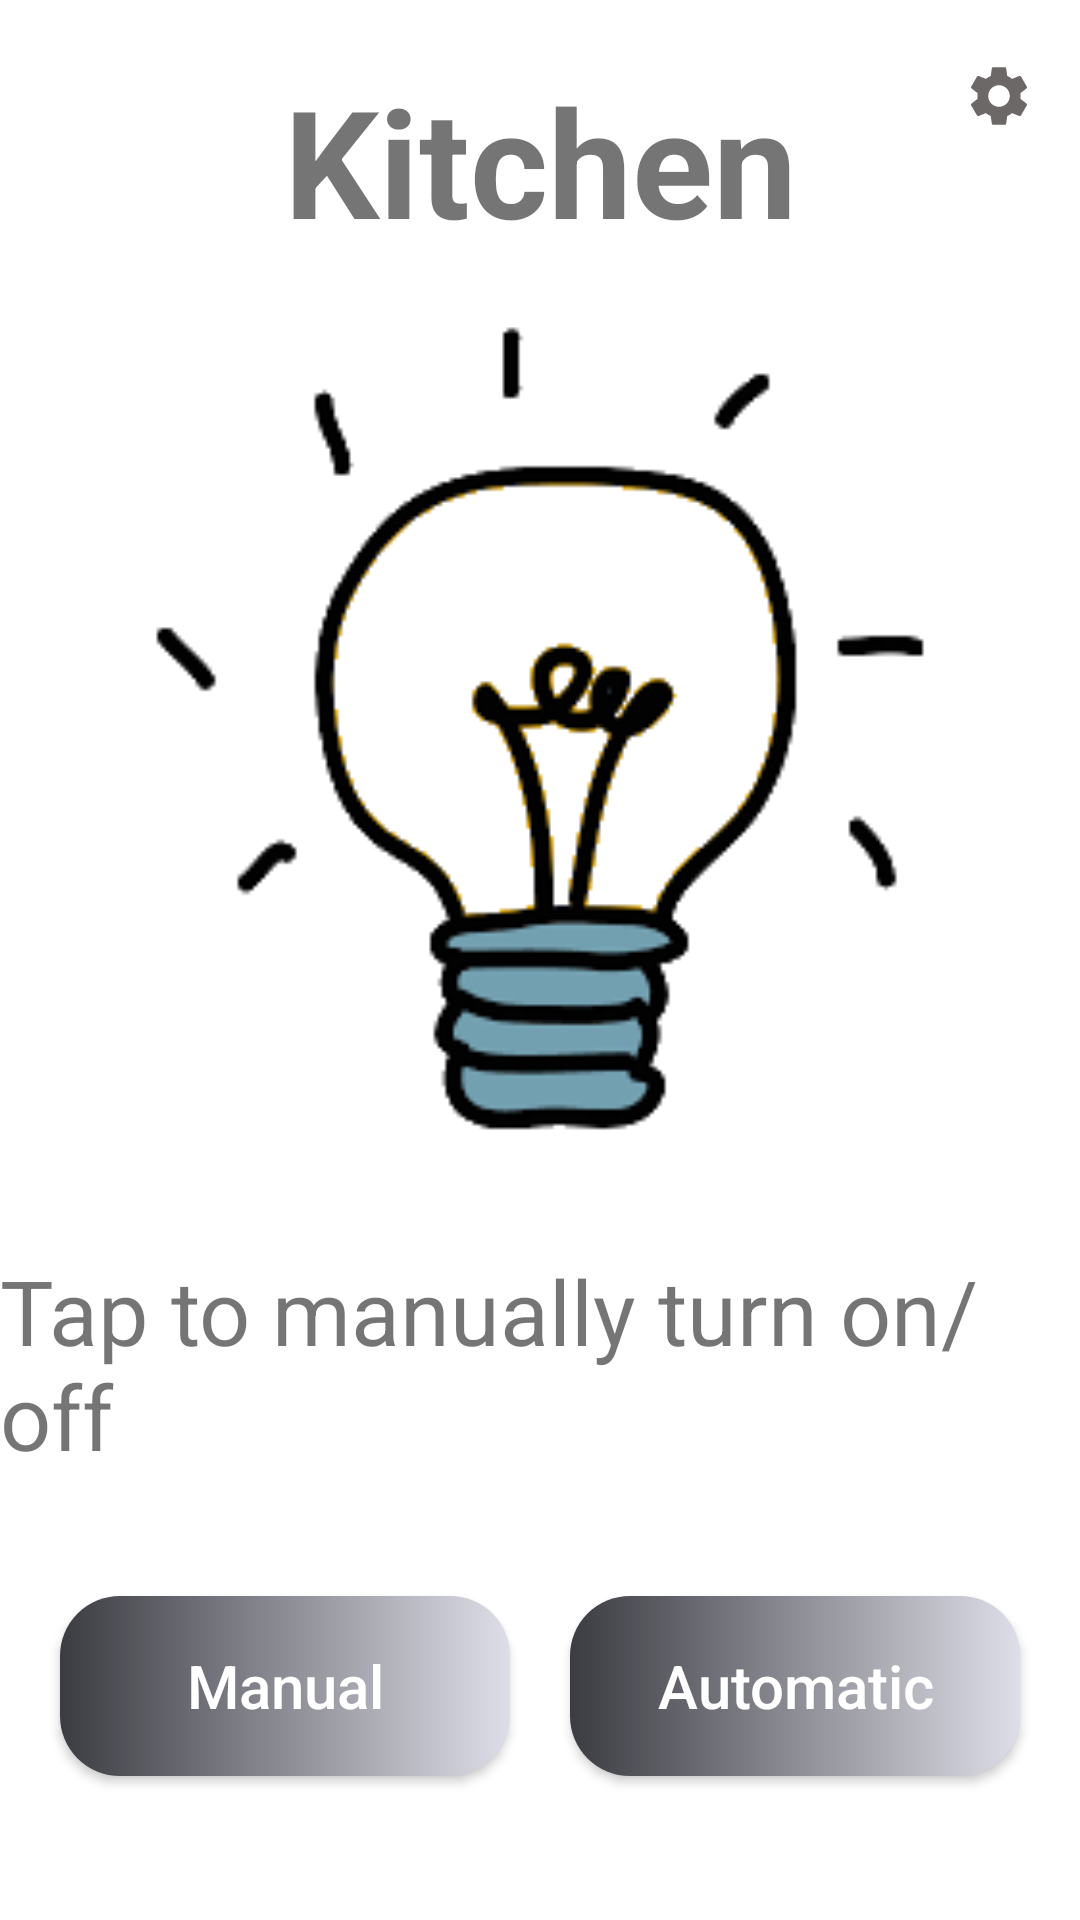

Locate icon controls on the screen. Image size 1080 × 1920, boxes as (x1, y1, x2, y2).
settings: (971, 67, 1027, 125)
